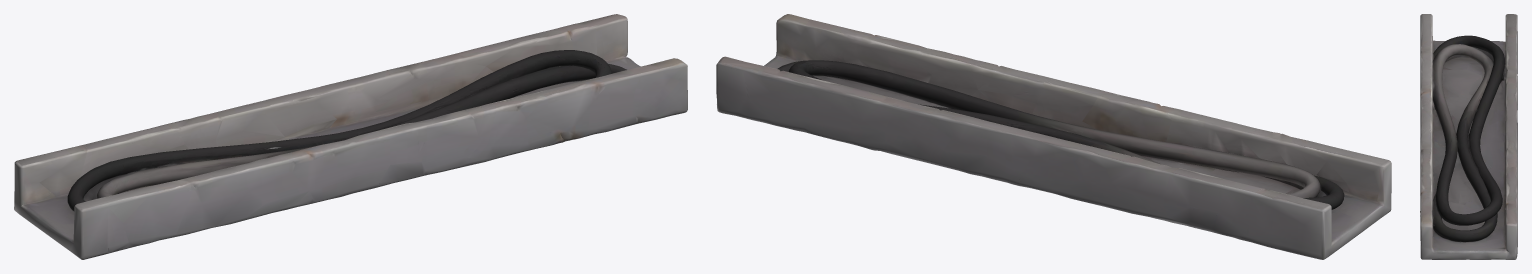
Rendered from decor_cable_channel_idle.glb.
3 views of the same model, side by side, from view 1: azimuth 30°, elevation 25°; view 2: azimuth 150°, elevation 25°; view 3: azimuth 270°, elevation 25° (orthographic). The views are drawn at different scales.
Visible parts, largest first — view 1: tripo_node_bd97030f-6cb4-4e84-857f-fa3f53a0b1cb; view 2: tripo_node_bd97030f-6cb4-4e84-857f-fa3f53a0b1cb; view 3: tripo_node_bd97030f-6cb4-4e84-857f-fa3f53a0b1cb.
Boxes of the visible parts, left/top/right/bottom form: tripo_node_bd97030f-6cb4-4e84-857f-fa3f53a0b1cb: left=14, top=14, right=687, bottom=259; tripo_node_bd97030f-6cb4-4e84-857f-fa3f53a0b1cb: left=716, top=14, right=1391, bottom=259; tripo_node_bd97030f-6cb4-4e84-857f-fa3f53a0b1cb: left=1420, top=14, right=1517, bottom=259.
Bounding box in the file's own units: 0.9999 × 0.0823 × 0.1958.
Materials: 1 (1 with a texture image).
